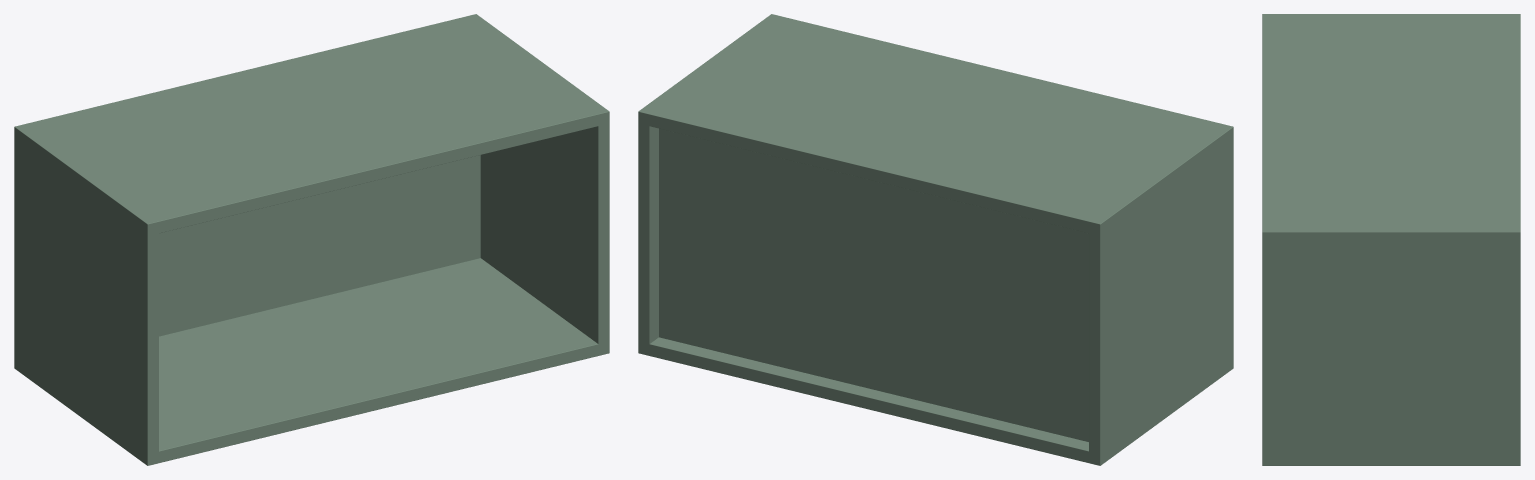
File: MOD_2X1_A_B_VA.glb
The picture shows the model from 3 angles, left to right: view 1: azimuth 30°, elevation 25°; view 2: azimuth 150°, elevation 25°; view 3: azimuth 270°, elevation 25°; orthographic projection. The views are drawn at different scales.
Size of the model in its own units: 720 by 360 by 360.
